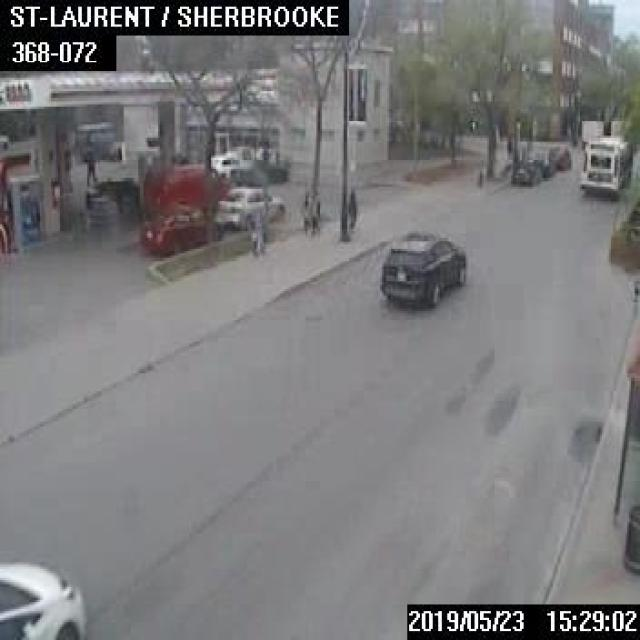bus: (580, 136, 633, 193)
pedestrian: (244, 204, 258, 258), (304, 184, 316, 238), (347, 184, 358, 229)
vehicle: (0, 553, 84, 638), (378, 229, 464, 304), (140, 163, 233, 206), (141, 203, 222, 252), (216, 183, 284, 227), (229, 159, 286, 183), (508, 159, 540, 185), (547, 143, 570, 170), (531, 149, 554, 176)
